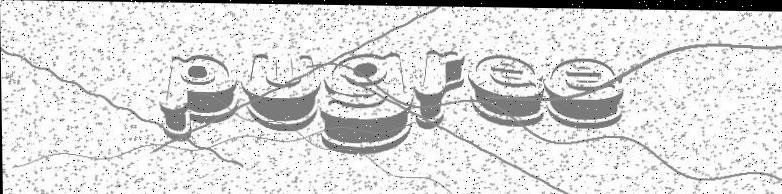e: (470, 47, 545, 127), (546, 54, 627, 126)
g: (320, 51, 413, 153)
p: (157, 51, 242, 140)
r: (415, 46, 467, 128)
u: (241, 48, 321, 132)
